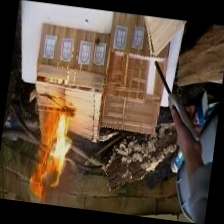fire: (21, 102, 80, 208)
